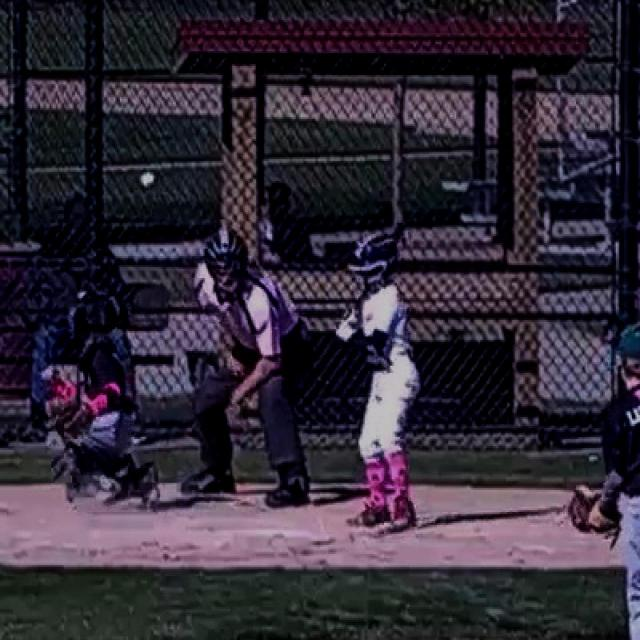baseball: (140, 173, 155, 187)
